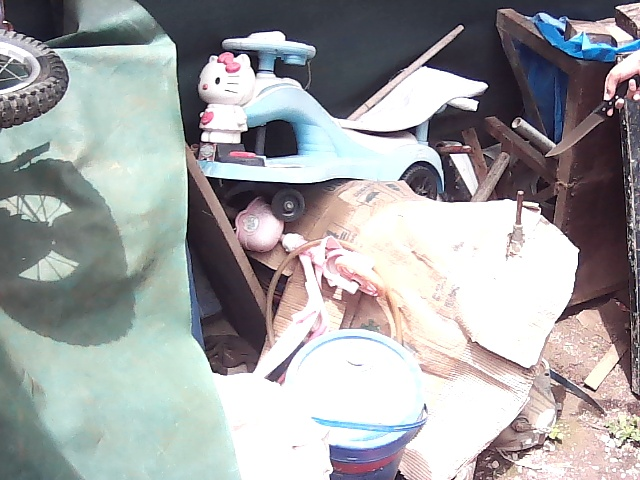cuchillo: (542, 94, 619, 162)
